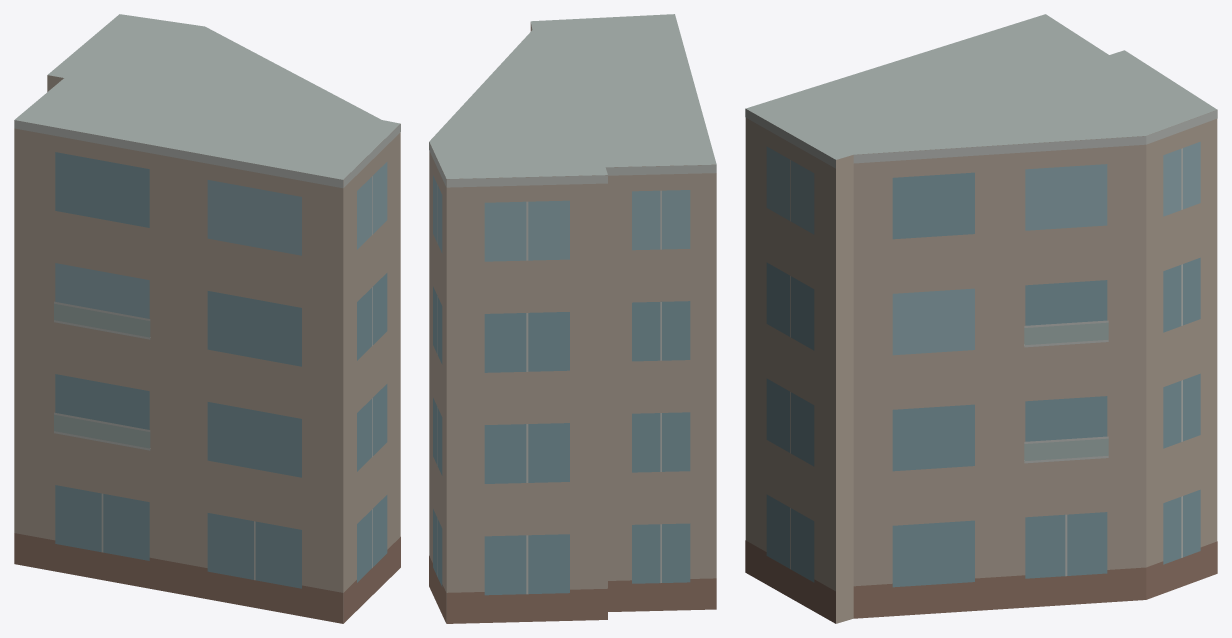
The model's file is survey-upis-32518733.glb.
3 renders of one model, left to right at view 1: azimuth 30°, elevation 25°; view 2: azimuth 150°, elevation 25°; view 3: azimuth 270°, elevation 25°, orthographic. The views are drawn at different scales.
Visible parts, largest first — view 1: survey-upis-32518733.tmp; view 2: survey-upis-32518733.tmp; view 3: survey-upis-32518733.tmp.
Part boxes in pixels (x1,y1,x2,y2): survey-upis-32518733.tmp: (14, 14, 400, 623); survey-upis-32518733.tmp: (429, 14, 716, 623); survey-upis-32518733.tmp: (745, 14, 1217, 623).
Bounding box in the file's own units: 8.64 × 12.8 × 11.81.
